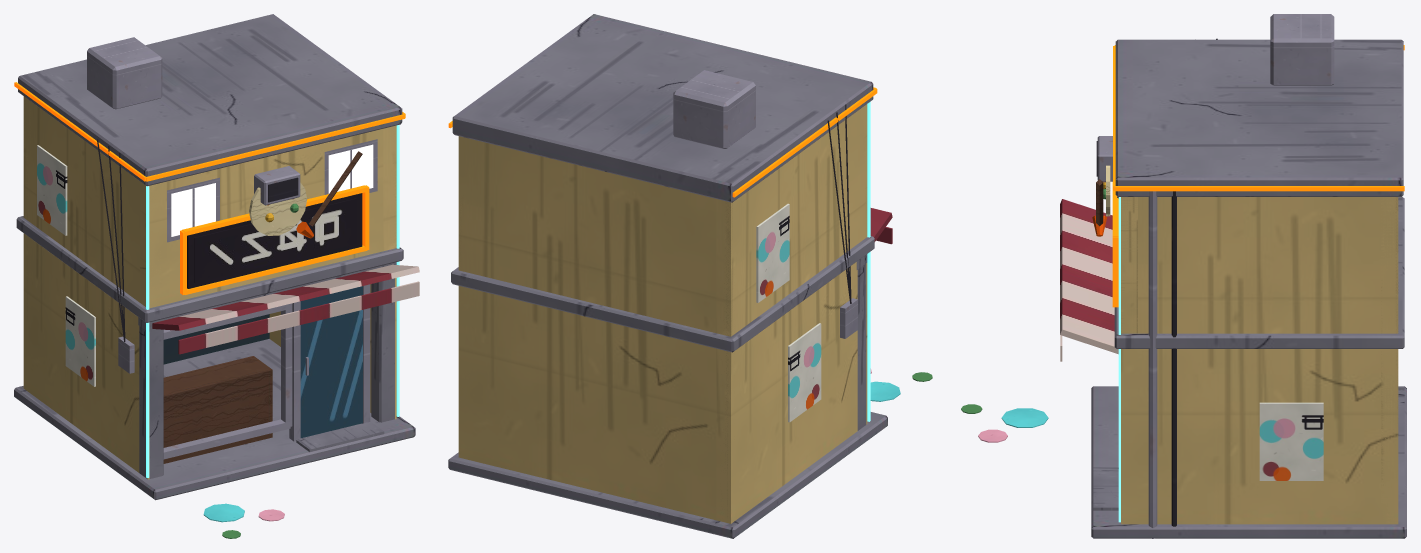
The model's file is servico_design-grafico.glb.
3 renders of one model, left to right at view 1: azimuth 30°, elevation 25°; view 2: azimuth 150°, elevation 25°; view 3: azimuth 270°, elevation 25°, orthographic. The views are drawn at different scales.
Parts seen in each view (by area): view 1: servico_design-grafico; view 2: servico_design-grafico; view 3: servico_design-grafico.
Part boxes in pixels (left/top/right/bottom): servico_design-grafico: left=14, top=14, right=419, bottom=538; servico_design-grafico: left=448, top=14, right=932, bottom=538; servico_design-grafico: left=961, top=14, right=1406, bottom=538.
Size of the model in its own units: 3.18 by 4.2 by 4.18.
5 materials, 2 textured.
